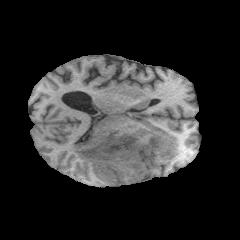glioma: (73, 125, 179, 183)
